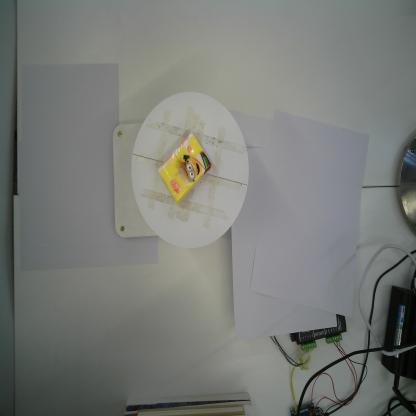Tissue: (157, 132, 212, 204)
